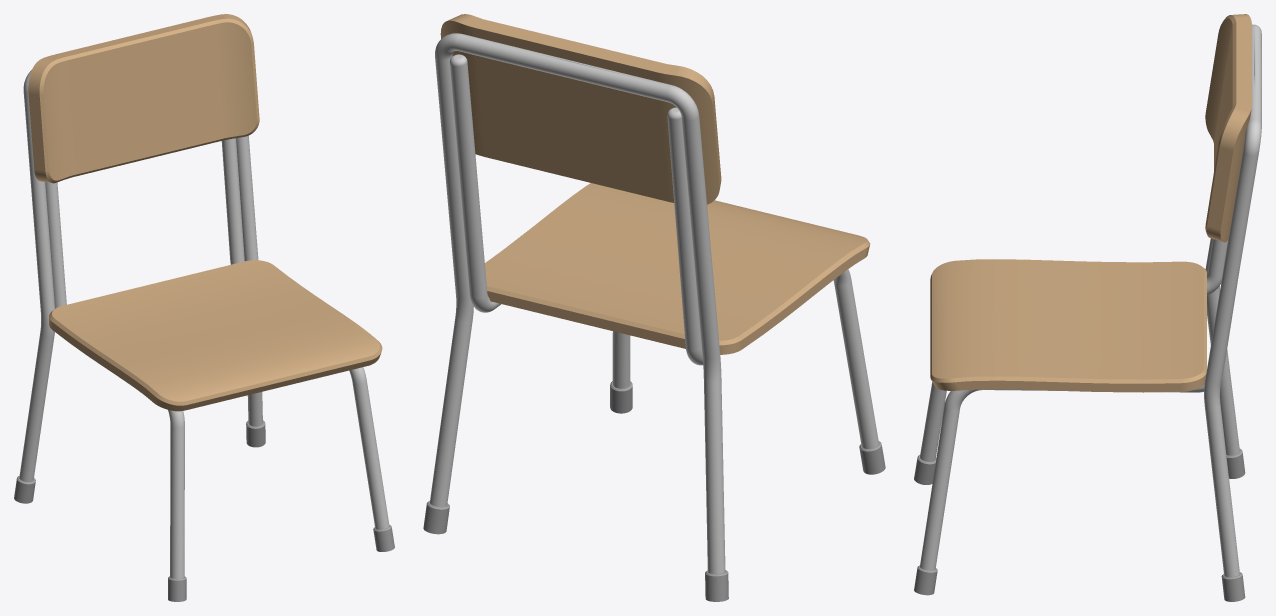
The model's file is 711_school_chair_M.glb.
3 views of the same model, side by side, from view 1: azimuth 30°, elevation 25°; view 2: azimuth 150°, elevation 25°; view 3: azimuth 270°, elevation 25° (orthographic). The views are drawn at different scales.
Parts seen in each view (by area): view 1: Body; view 2: Body; view 3: Body.
Boxes of the visible parts, x1,y1,x2,y2 form: Body: (14,14,394,601); Body: (423,14,885,601); Body: (914,14,1261,601).
Size of the model in its own units: 0.4937 by 0.8187 by 0.5442.
